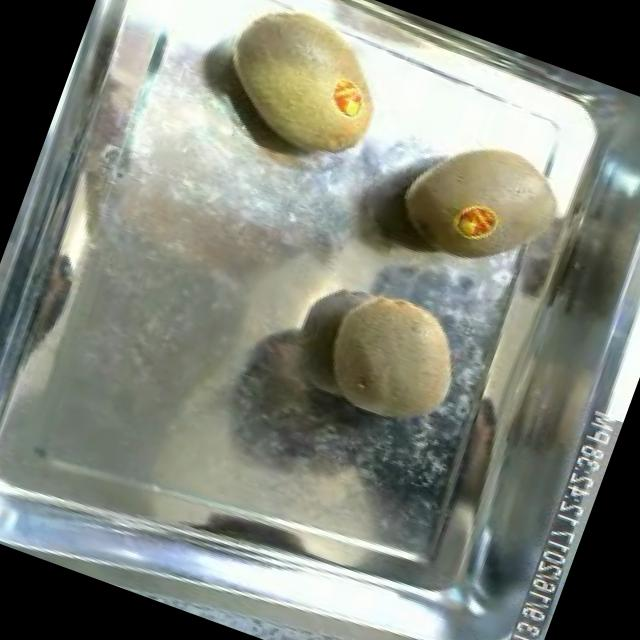Fruit: (194, 0, 415, 184), (378, 106, 580, 292), (302, 267, 487, 448)
